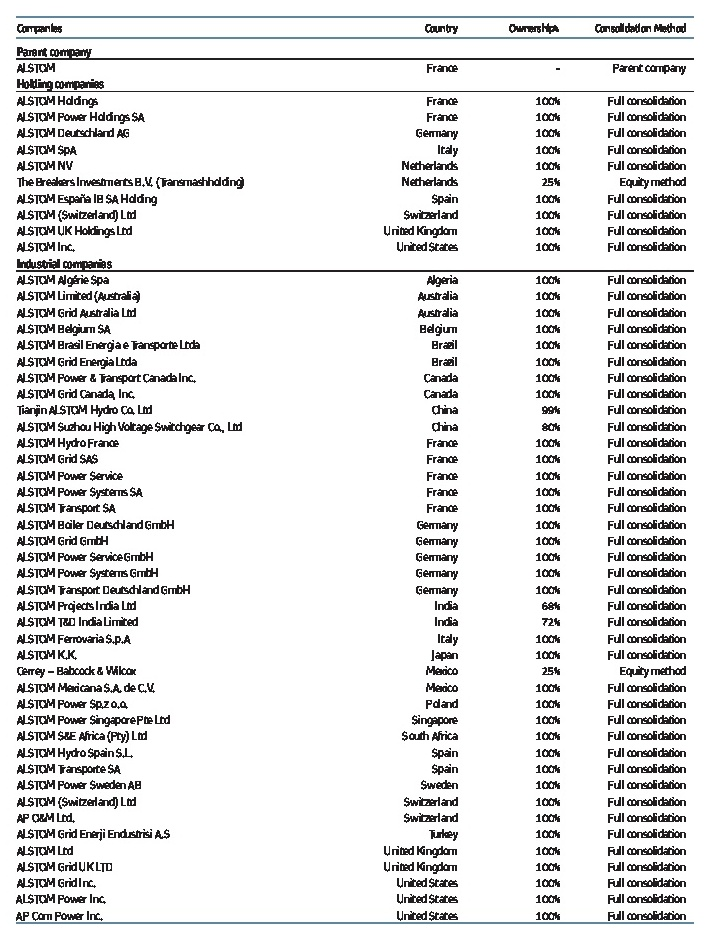table: (0, 0, 706, 938)
